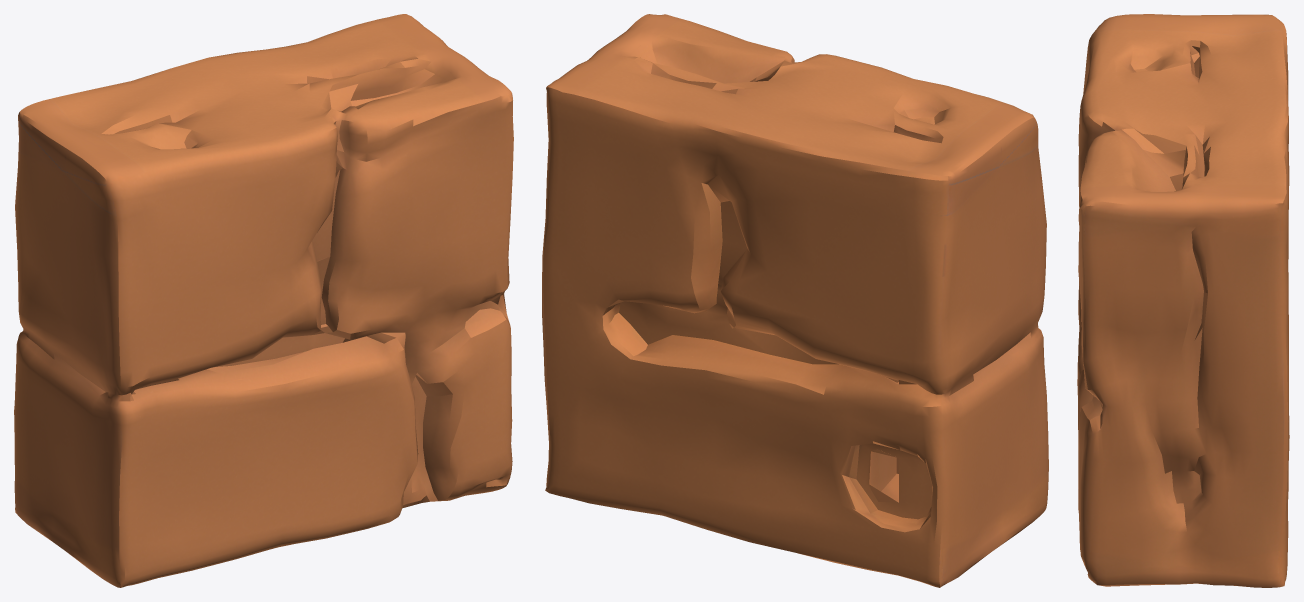
File: brick_std_sandstone_b.glb
3 renders of one model, left to right at view 1: azimuth 30°, elevation 25°; view 2: azimuth 150°, elevation 25°; view 3: azimuth 270°, elevation 25°, orthographic. The views are drawn at different scales.
Parts seen in each view (by area): view 1: Mesh_0; view 2: Mesh_0; view 3: Mesh_0.
Boxes of the visible parts, x1,y1,x2,y2 form: Mesh_0: [14, 14, 513, 587]; Mesh_0: [542, 14, 1048, 587]; Mesh_0: [1077, 14, 1289, 587].
Bounding box in the file's own units: 1.9 × 1.84 × 0.904.
1 material, 1 textured.
